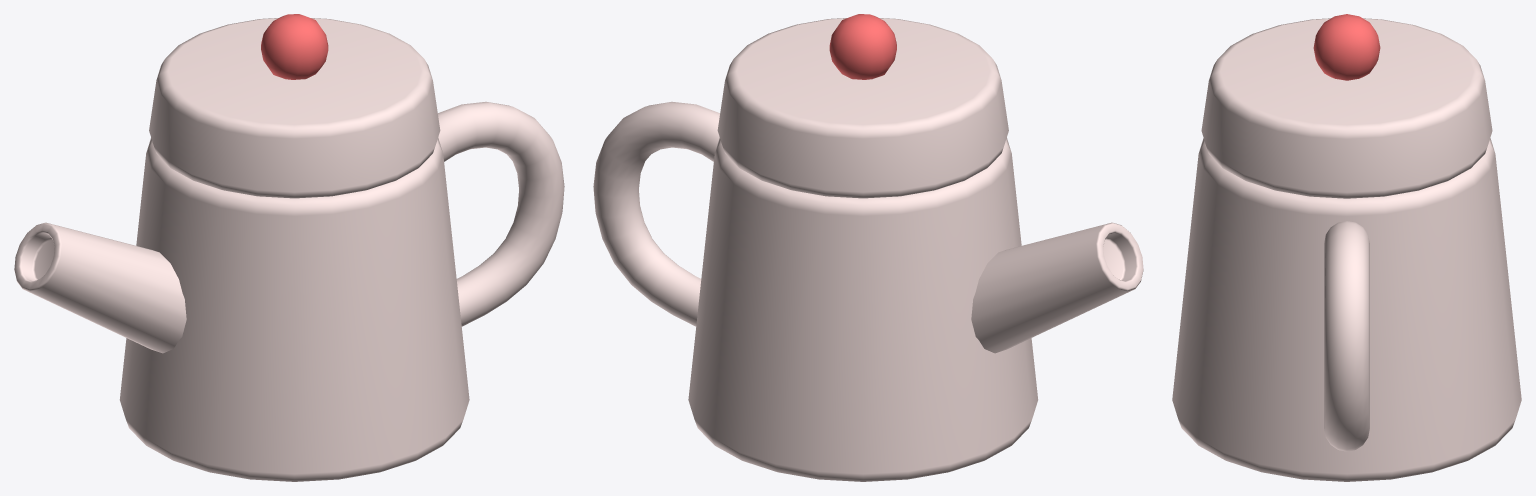
Rendered from Town_13_Teapot_1.glb.
3 renders of one model, left to right at view 1: azimuth 30°, elevation 25°; view 2: azimuth 150°, elevation 25°; view 3: azimuth 270°, elevation 25°, orthographic.
Parts seen in each view (by area): view 1: Town_13_Teapot_1; view 2: Town_13_Teapot_1; view 3: Town_13_Teapot_1.
Boxes of the visible parts, x1,y1,x2,y2 form: Town_13_Teapot_1: [14, 14, 564, 481]; Town_13_Teapot_1: [593, 14, 1143, 481]; Town_13_Teapot_1: [1172, 14, 1521, 481].
Bounding box in the file's own units: 0.4156 × 0.2917 × 0.2333.
Materials: 1 (1 with a texture image).
